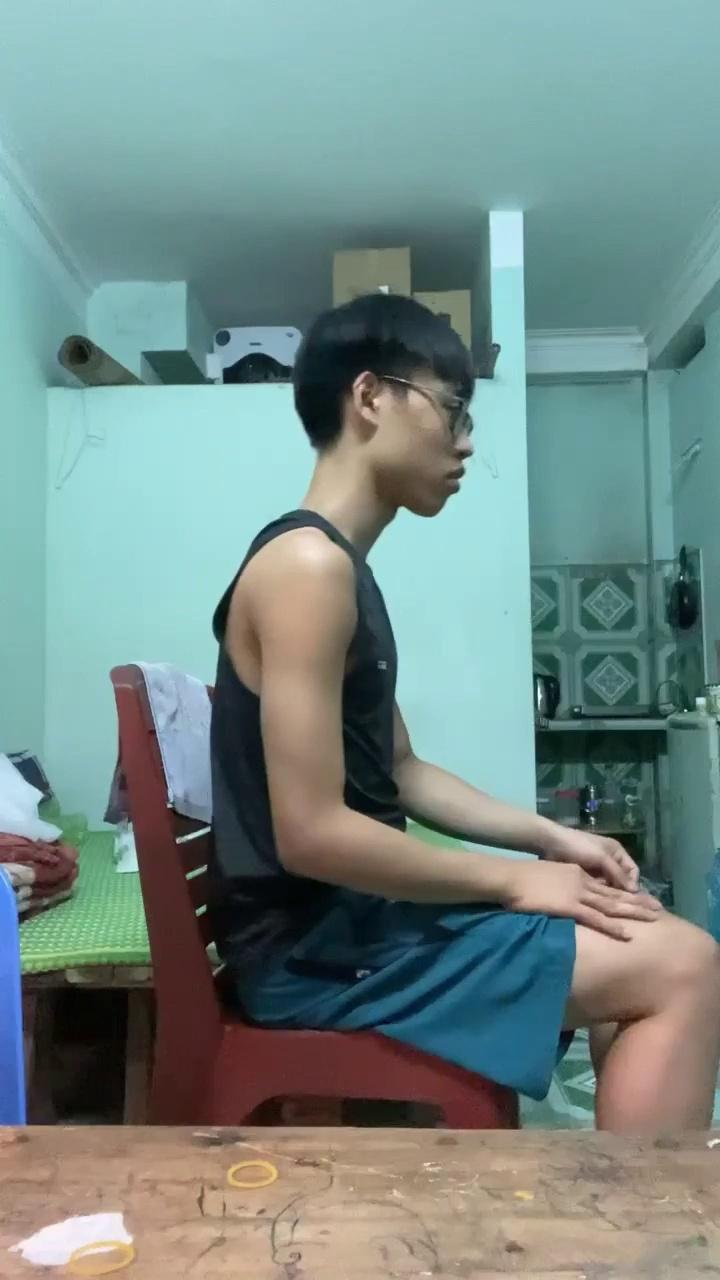GoodPosture: (207, 291, 719, 1135)
